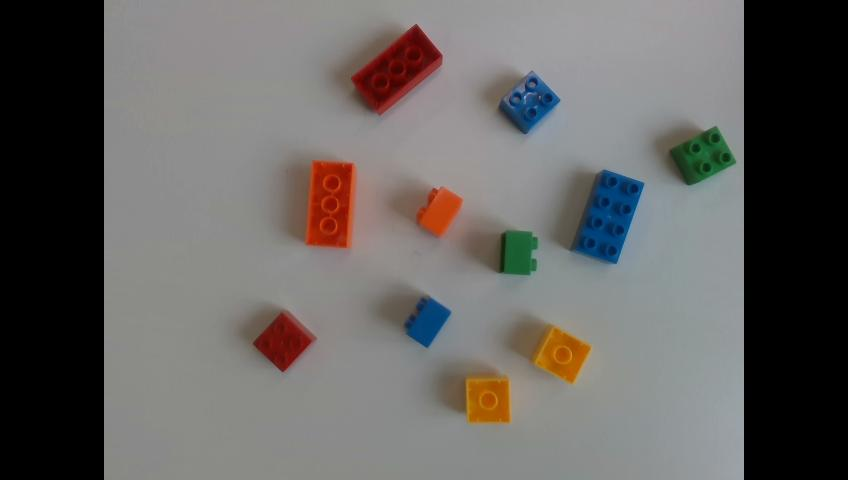2x2_blue: (500, 69, 559, 132), (400, 296, 451, 349)
2x2_green: (667, 122, 735, 186), (501, 229, 537, 275)
2x2_orange: (417, 185, 461, 234)
2x2_red: (252, 309, 316, 369)
2x2_yellow: (532, 326, 595, 381), (467, 378, 511, 422)
4x2_blue: (572, 168, 644, 261)
4x2_orange: (307, 159, 355, 250)
4x2_red: (349, 22, 441, 113)
